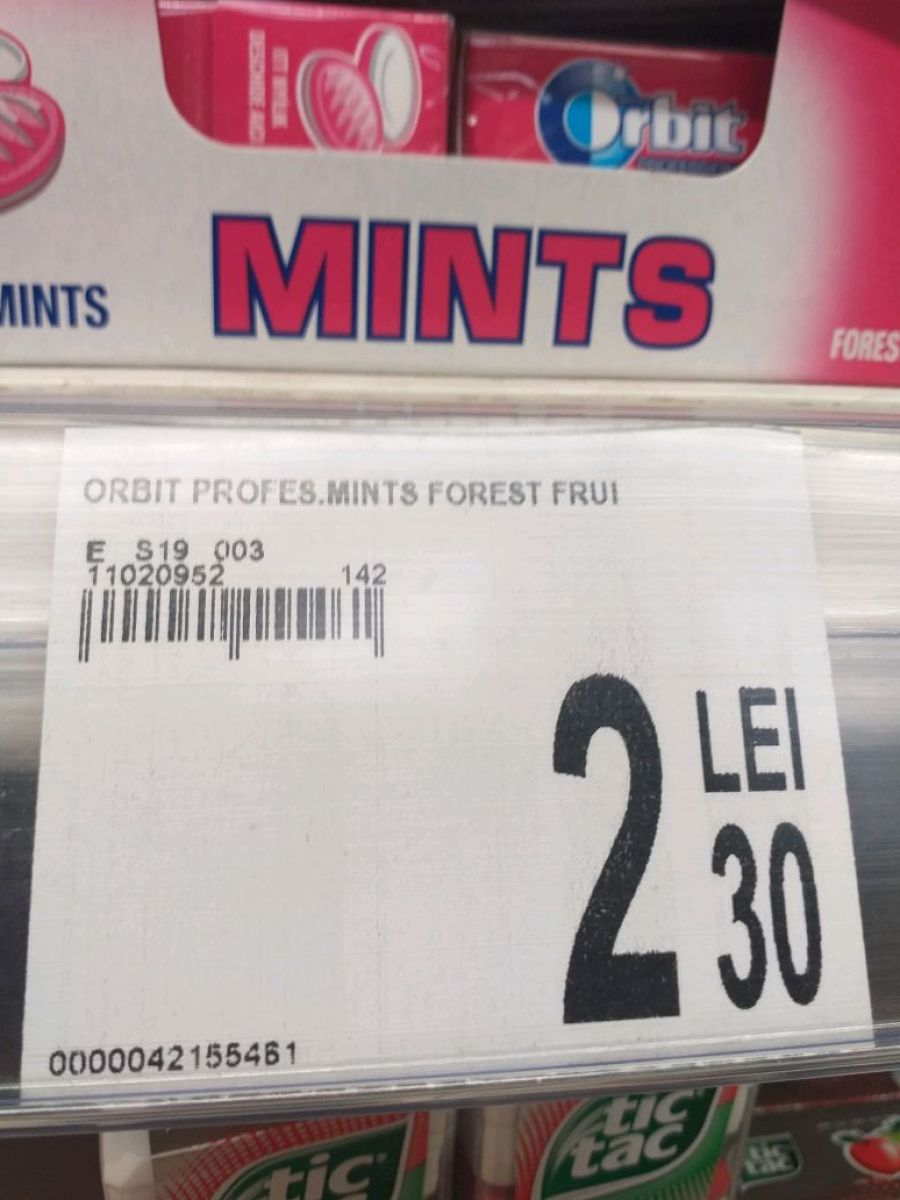price_bani: (691, 804, 832, 1015)
price_lei: (513, 650, 691, 1028)
price_tag: (6, 385, 869, 1149)
product_id: (40, 1038, 313, 1085)
product_name: (70, 463, 648, 515)
